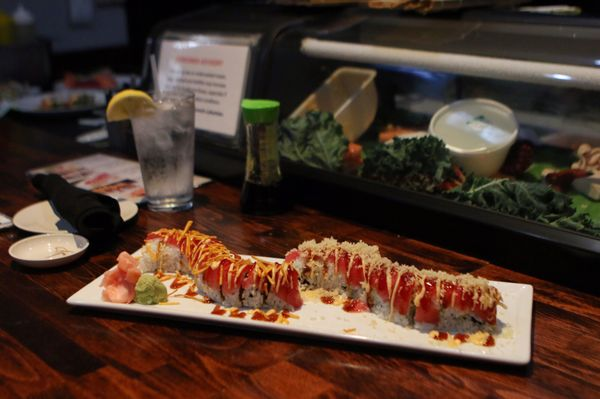sushi: (428, 98, 519, 178)
